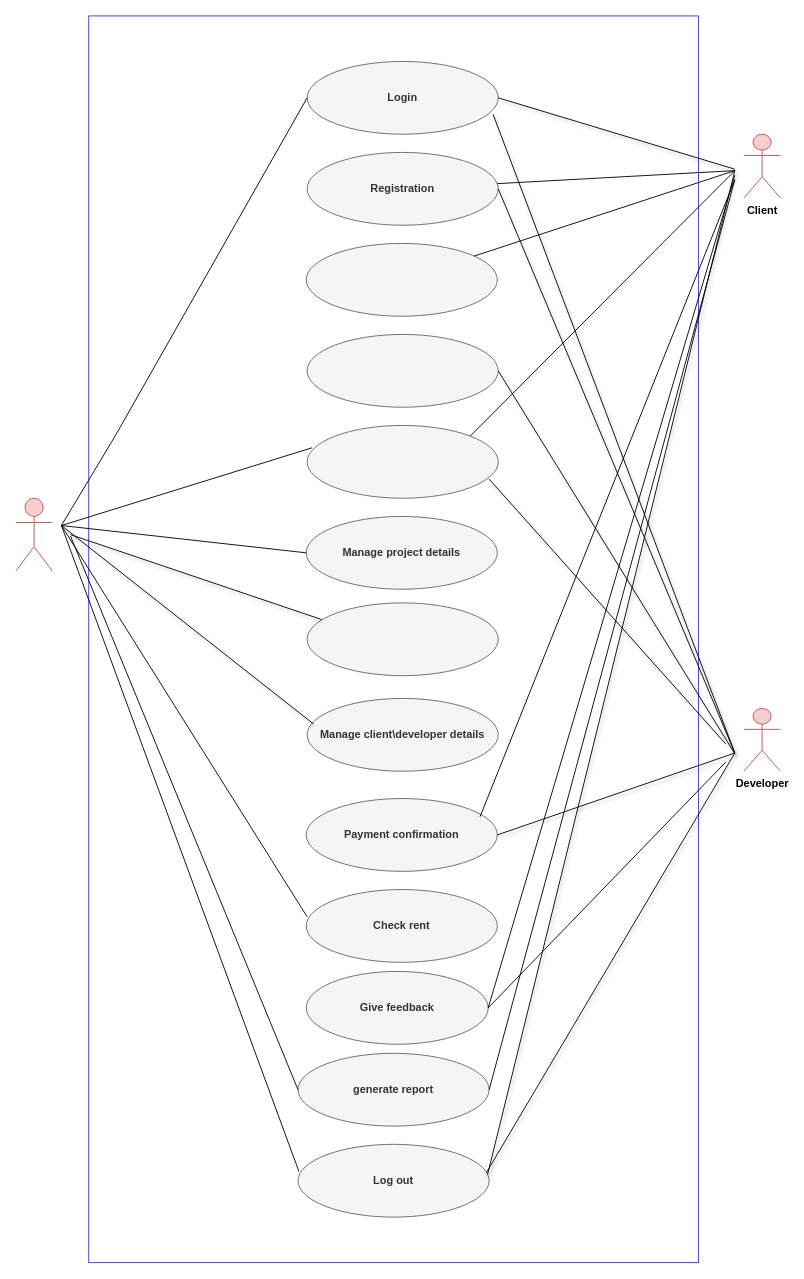
The diagram is 804 pixels wide and 1279 high, and some of its shapes have lost their labels. Each missing label, with the centre of its shape:
"Admin" goes at point 33,534.
"search client module" goes at point 402,370.
"search developer module" goes at point 401,279.
"View details" goes at point 402,461.
"View request" goes at point 402,639.
